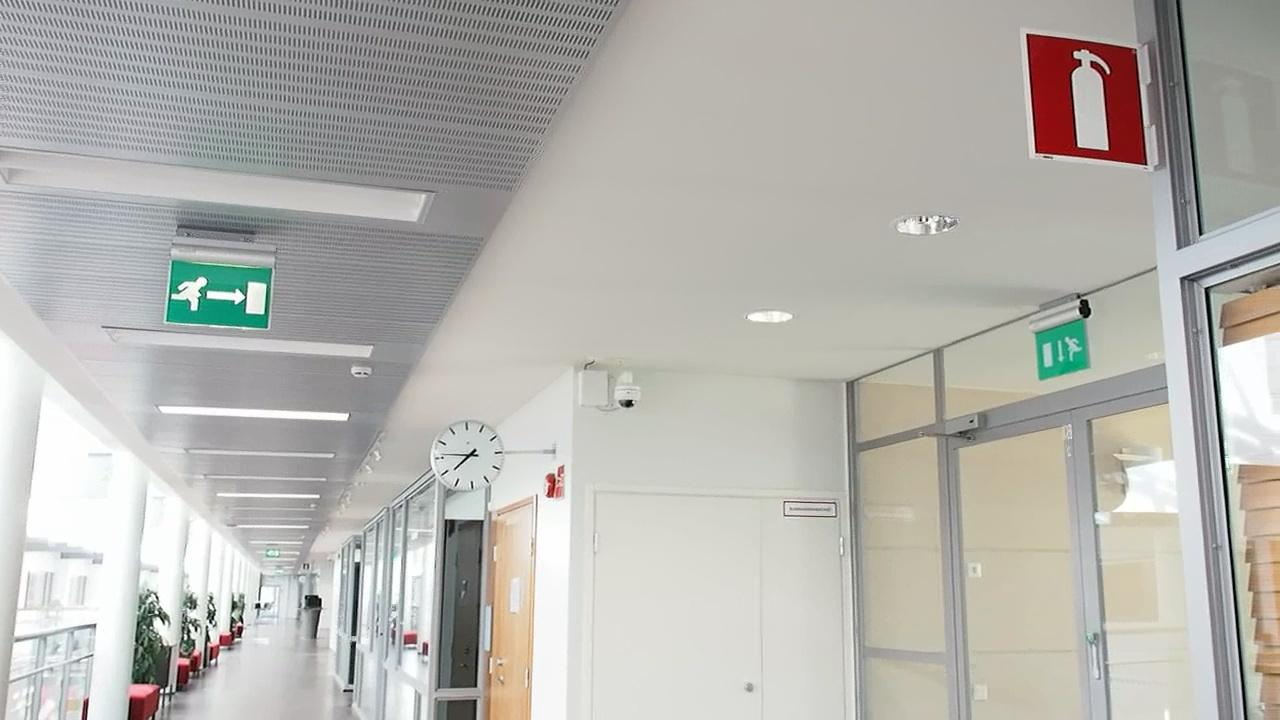clock: (425, 422, 505, 497)
exit: (160, 260, 270, 332), (1039, 324, 1102, 381)
fireextinguisher: (1035, 35, 1147, 160)
